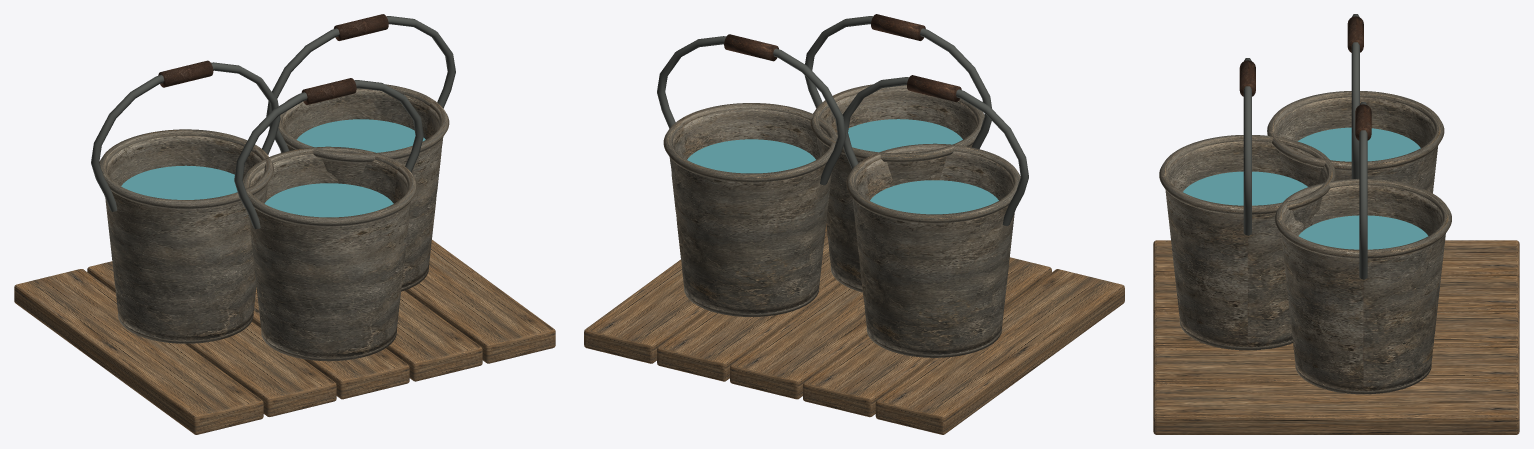
Rendered from condensation.glb.
3 renders of one model, left to right at view 1: azimuth 30°, elevation 25°; view 2: azimuth 150°, elevation 25°; view 3: azimuth 270°, elevation 25°, orthographic.
Visible parts, largest first — view 1: condensation_mesh; view 2: condensation_mesh; view 3: condensation_mesh.
Part boxes in pixels (bbox=[...]): condensation_mesh: bbox=[14, 14, 555, 434]; condensation_mesh: bbox=[584, 14, 1124, 434]; condensation_mesh: bbox=[1153, 14, 1519, 434].
Bounding box in the file's own units: 1.11 × 0.7885 × 0.95.
Materials: 5 (3 with a texture image).
